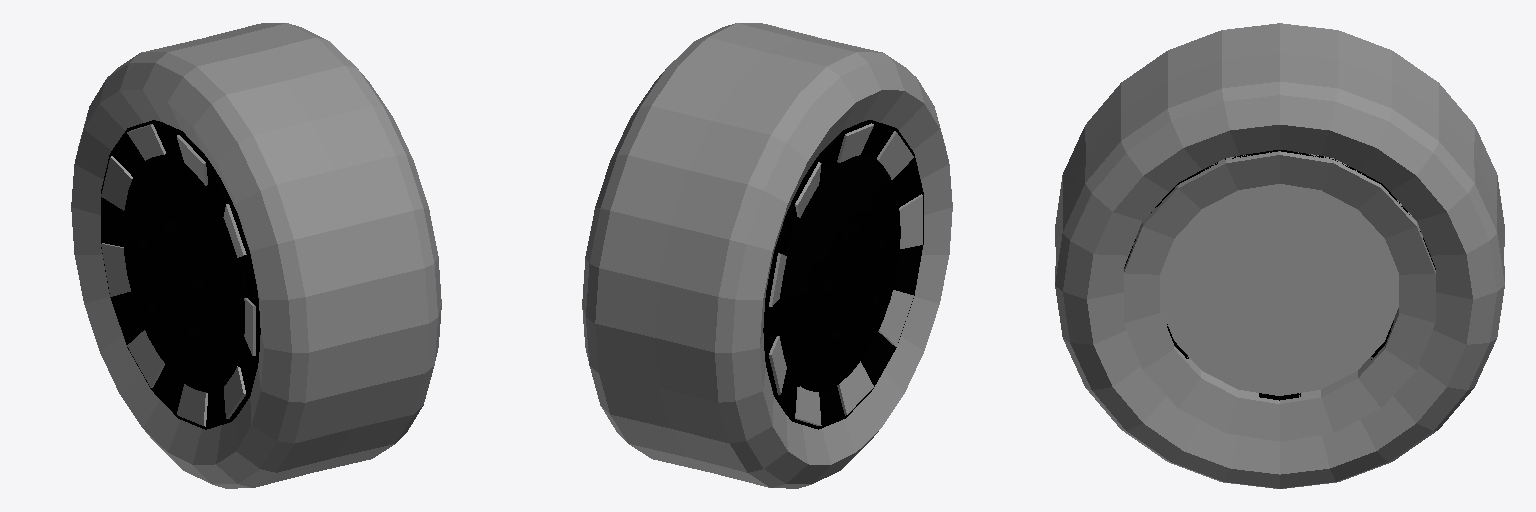
File: llanta2.obj
The picture shows the model from 3 angles: view 1: azimuth 30°, elevation 25°; view 2: azimuth 150°, elevation 25°; view 3: azimuth 270°, elevation 25°; orthographic projection.
Parts seen in each view (by area): view 1: Torus01, Sphere01, Tube01, Tube02; view 2: Torus01, Sphere01, Tube01, Tube02; view 3: Torus01, Cylinder01, Tube02, Tube01.
Part boxes in pixels (x1,y1,x2,y2): Torus01: (71, 23, 441, 488); Sphere01: (123, 153, 247, 393); Tube01: (101, 120, 260, 429); Tube02: (101, 124, 255, 426); Torus01: (582, 23, 952, 488); Sphere01: (776, 153, 900, 392); Tube01: (763, 120, 923, 429); Tube02: (769, 123, 922, 425); Torus01: (1055, 23, 1504, 488); Cylinder01: (1160, 184, 1398, 395); Tube02: (1124, 151, 1435, 441); Tube01: (1124, 150, 1435, 400).
Bounding box in the file's own units: 55.91 × 122 × 122.